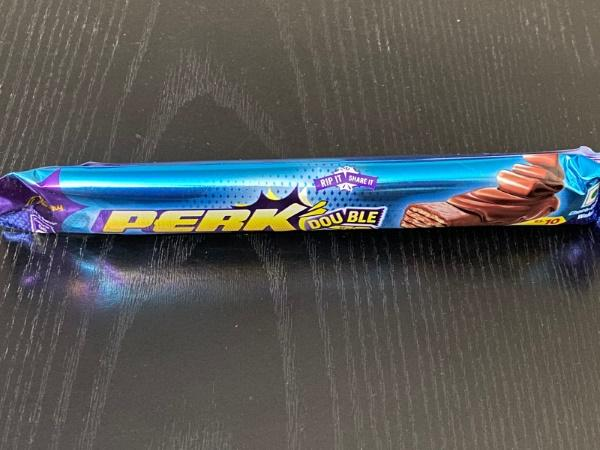Perk: (0, 145, 600, 260)
